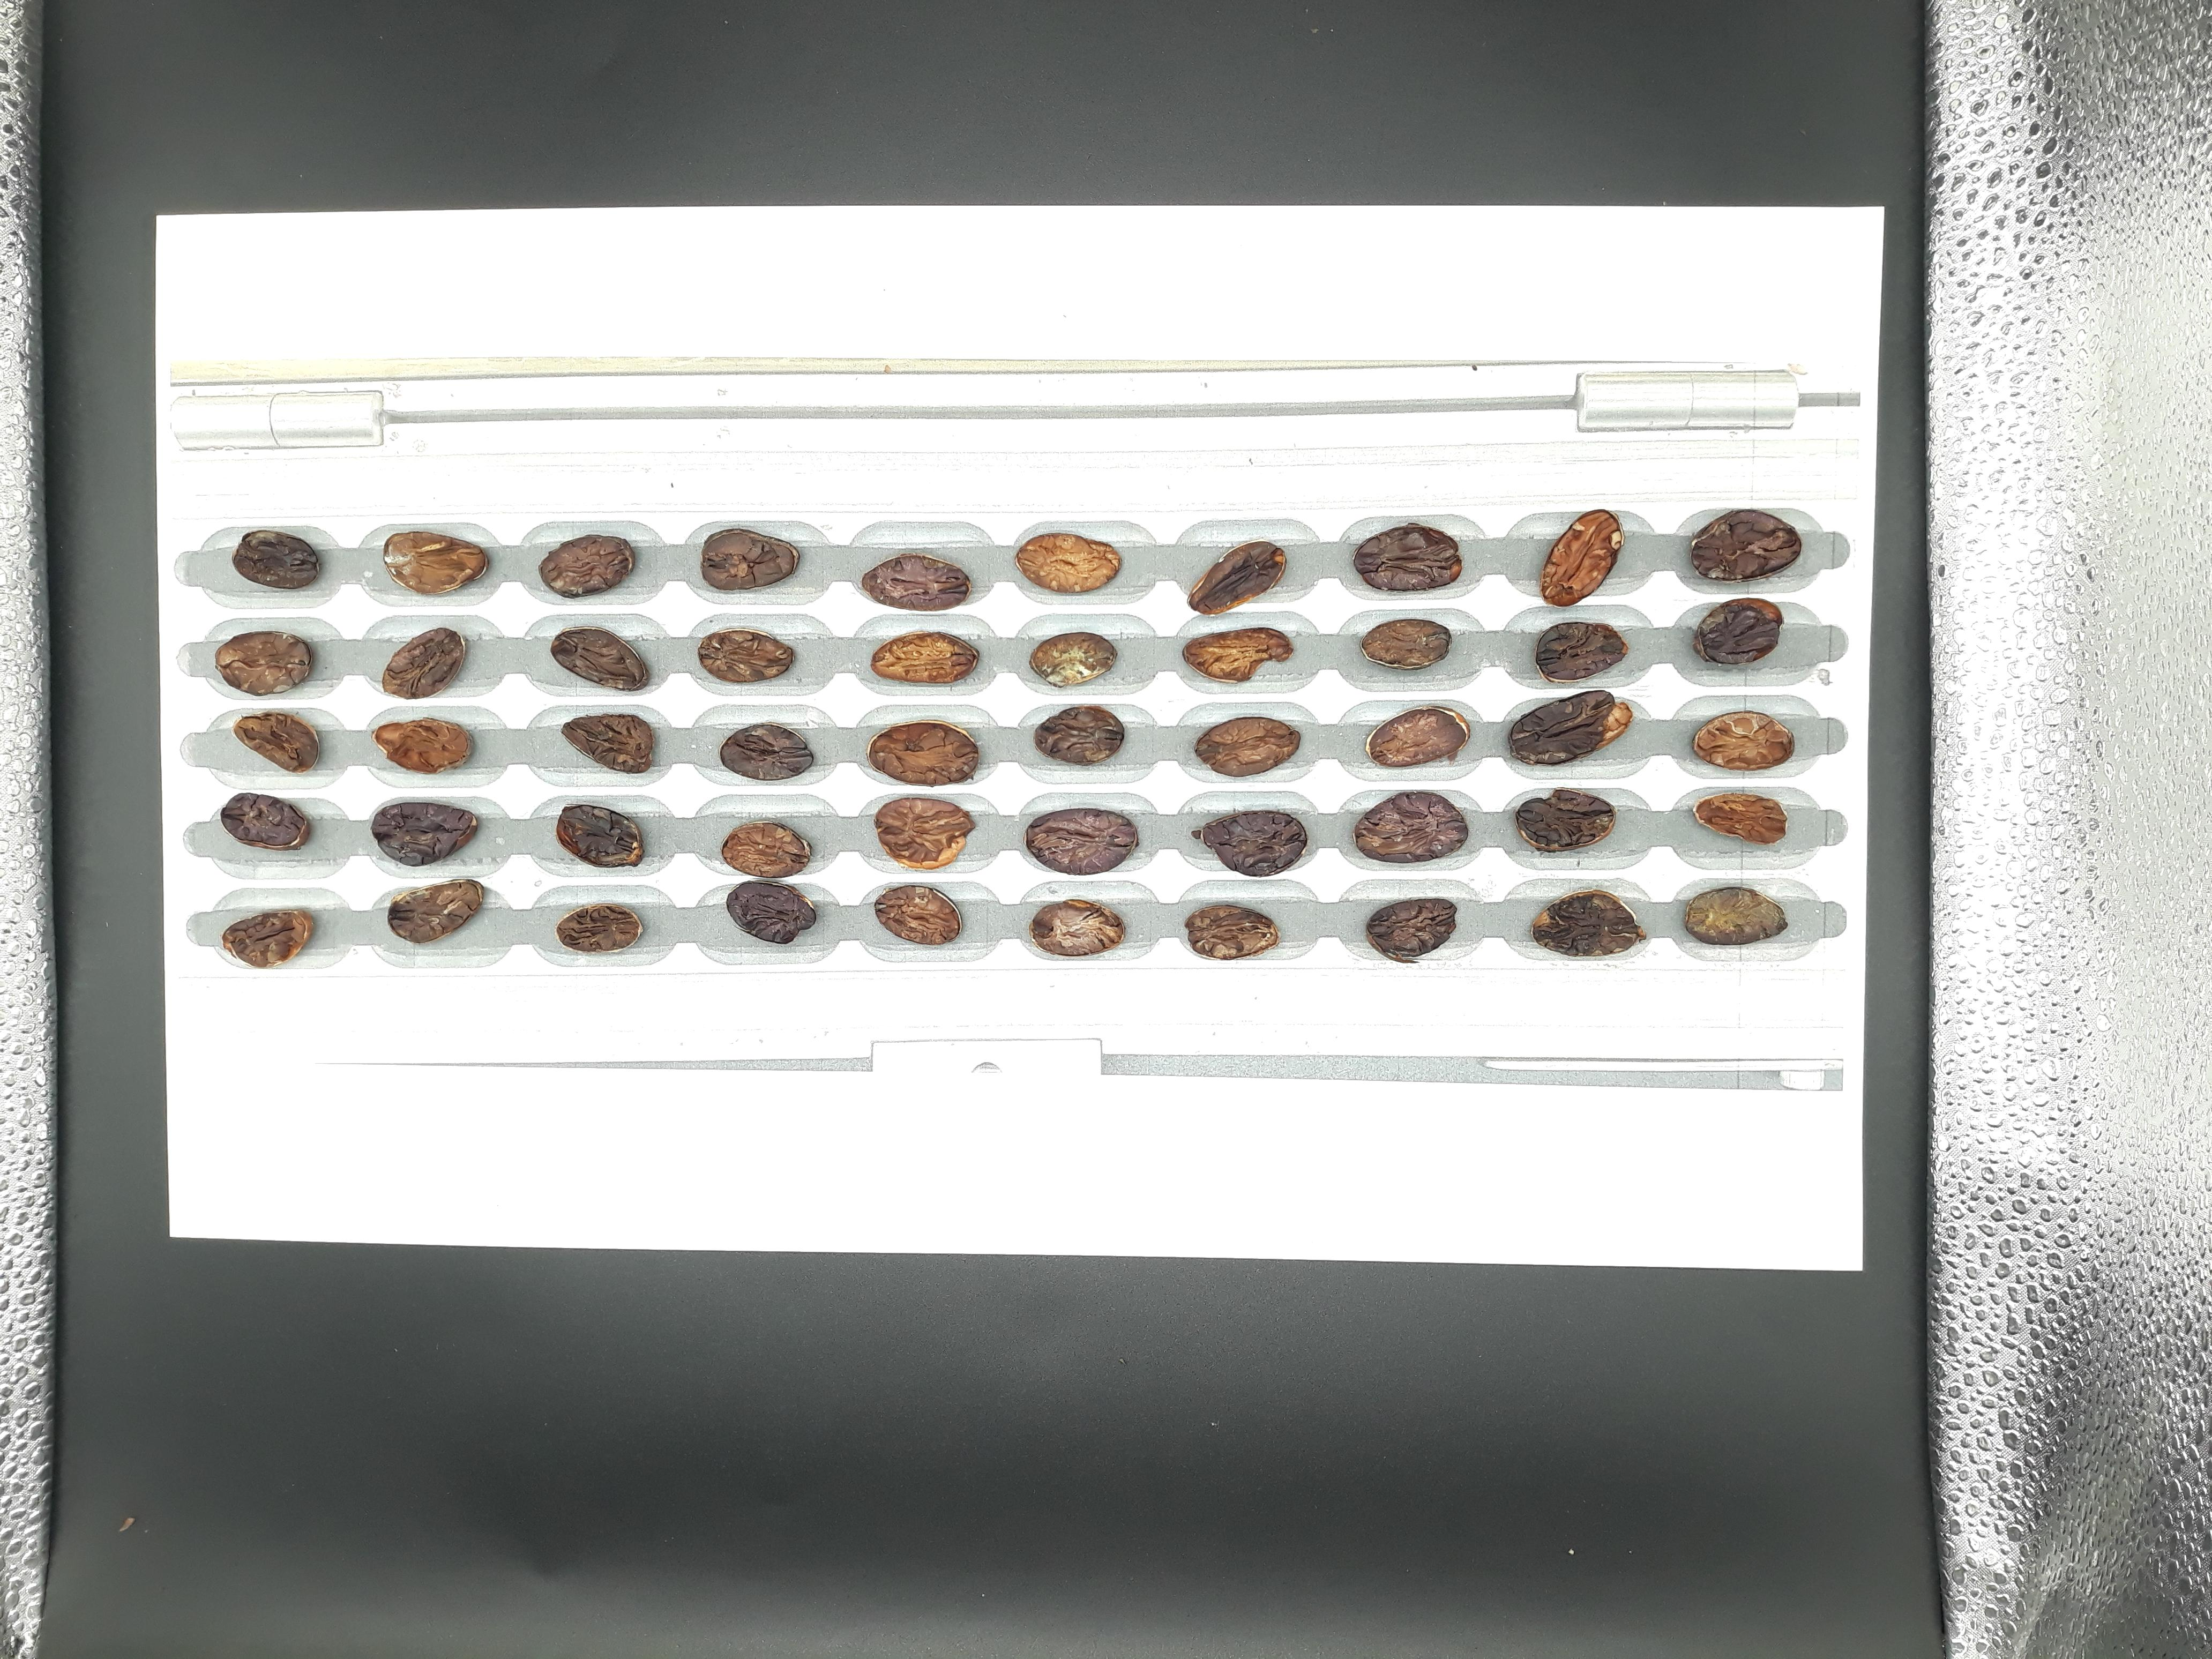Brown - G1: (1879, 1089, 1921, 1140), (1545, 1232, 1599, 1270), (1702, 1284, 1752, 1317), (1954, 1229, 2006, 1260), (1461, 1147, 1510, 1178)
Brown - G2: (1299, 1190, 1350, 1223), (1700, 1148, 1759, 1176), (1954, 1188, 2006, 1220), (1547, 1150, 1604, 1178), (1395, 1190, 1440, 1225), (1226, 1286, 1273, 1319), (1547, 1276, 1594, 1307)
Brown - G3: (1547, 1192, 1602, 1230), (1618, 1100, 1676, 1133), (1301, 1147, 1348, 1185), (1381, 1098, 1430, 1134), (1707, 1192, 1763, 1223), (1221, 1150, 1270, 1185), (1627, 1281, 1676, 1314), (1306, 1274, 1357, 1305), (1472, 1243, 1519, 1276), (1230, 1190, 1275, 1223)
Brown - G4: (1789, 1143, 1838, 1171)
Insect-damaged: (1951, 1276, 2003, 1307)
Mouldy: (1306, 1098, 1360, 1134), (1625, 1150, 1670, 1178)
Partly Purple - G1: (1867, 1227, 1918, 1262), (1874, 1145, 1925, 1176)
Partly Purple - G2: (1785, 1229, 1844, 1270), (1785, 1096, 1843, 1134)
Partly Purple - G3: (1541, 1108, 1599, 1143)
Partly Purple - G4: (1792, 1187, 1846, 1220)
Total Purple - G3: (1622, 1236, 1679, 1274), (1707, 1239, 1764, 1270), (1475, 1274, 1524, 1309), (1223, 1230, 1270, 1260)
Very Dark Brown - G1: (1864, 1178, 1928, 1220), (1874, 1277, 1935, 1312), (1956, 1133, 2003, 1166), (1392, 1286, 1435, 1312)
Very Dark Brown - G2: (1952, 1089, 2010, 1126), (1703, 1105, 1752, 1145), (1299, 1232, 1353, 1265), (1390, 1234, 1437, 1270), (1791, 1283, 1843, 1314), (1231, 1098, 1275, 1134), (1627, 1188, 1676, 1220)
Very Dark Brown - G3: (1463, 1098, 1515, 1131), (1472, 1195, 1521, 1229), (1386, 1150, 1437, 1182)
